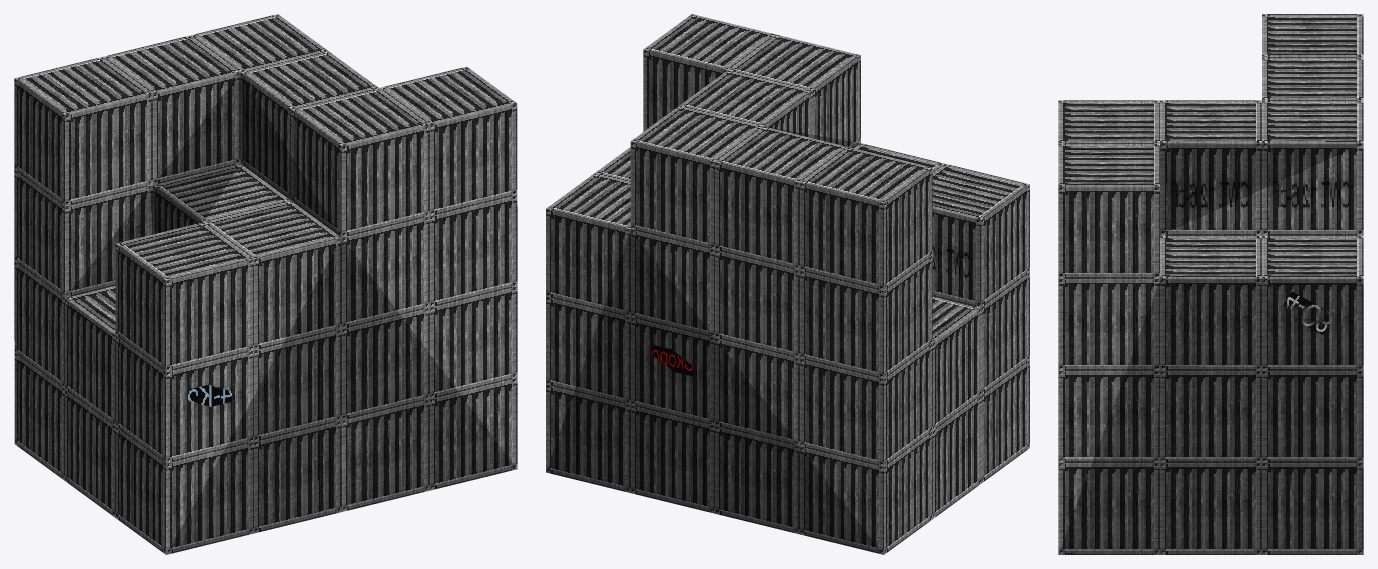
Rendered from primary_105.glb.
3 views of the same model, side by side, from view 1: azimuth 30°, elevation 25°; view 2: azimuth 150°, elevation 25°; view 3: azimuth 270°, elevation 25° (orthographic). The views are drawn at different scales.
Parts seen in each view (by area): view 1: Object; view 2: Object; view 3: Object.
Boxes of the visible parts, x1,y1,x2,y2 form: Object: [14, 14, 517, 554]; Object: [546, 14, 1029, 554]; Object: [1058, 14, 1363, 554].
Bounding box in the file's own units: 4.04 × 4.01 × 3.02.
Materials: 9 (9 with a texture image).
